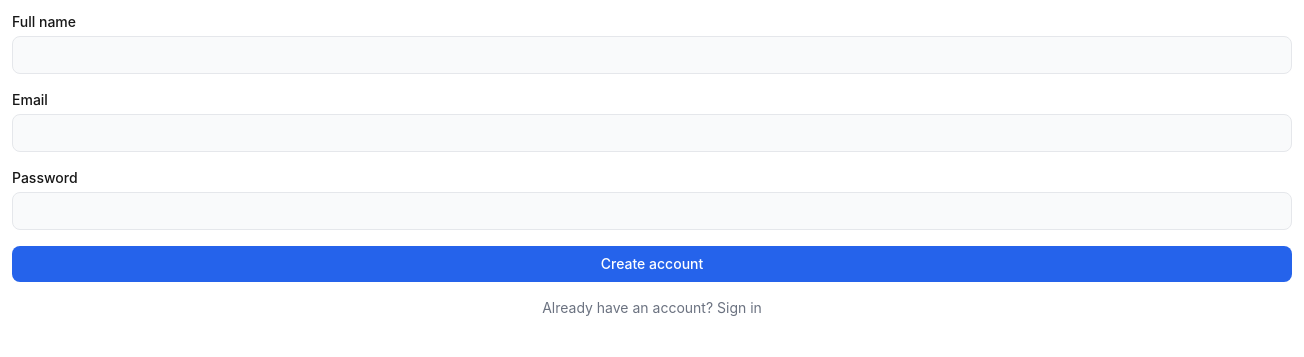
Test case: RegisterForm › validates email format
Type "Test User" into the field labelled "Full name" at (652, 55), box [12, 36, 1292, 74]
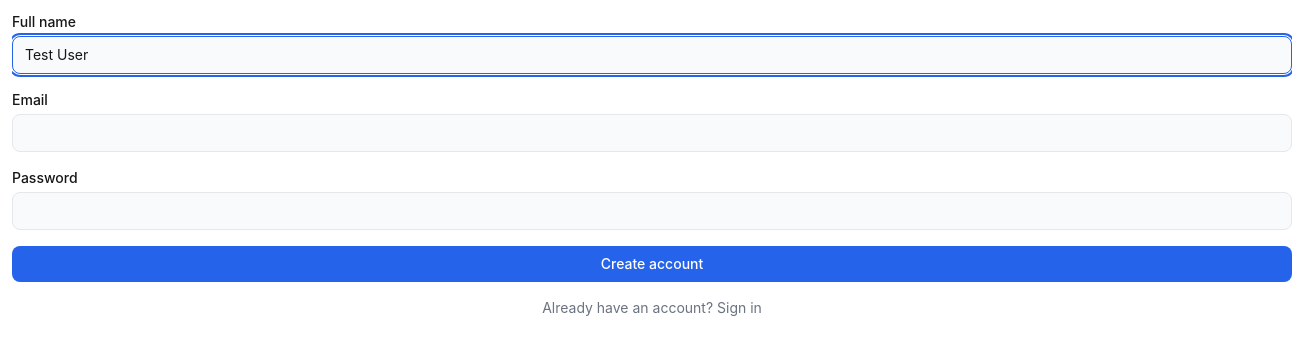
Type "foo@bar" into the field labelled "Email" at (652, 133), box [12, 114, 1292, 152]
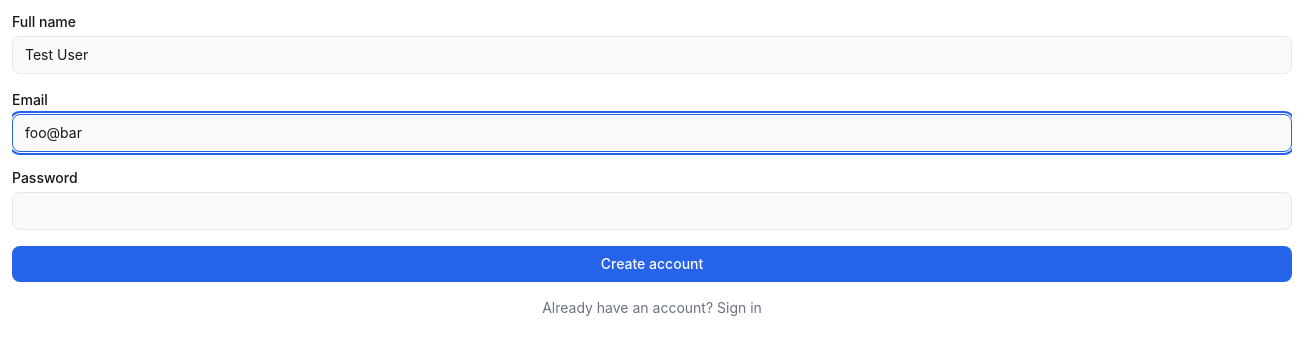
Type "password123" into the password field labelled "Password" at (652, 211), box [12, 192, 1292, 230]
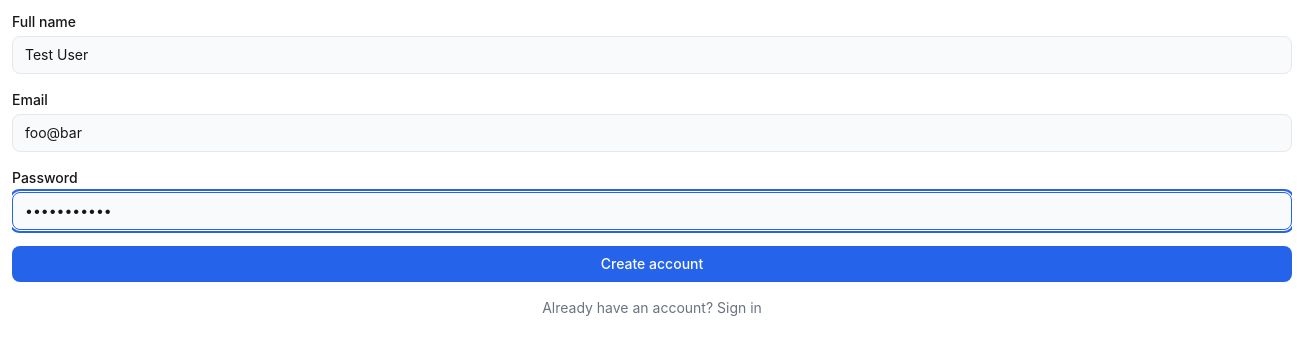
Click the button "Create account" at (652, 264), box [12, 246, 1292, 282]
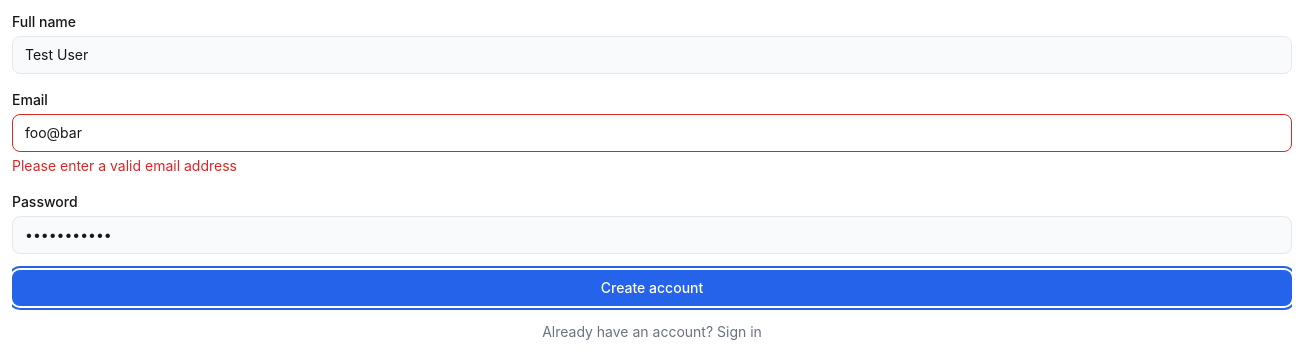
Now the text "Please enter a valid email address" is shown, box [12, 157, 237, 174]
